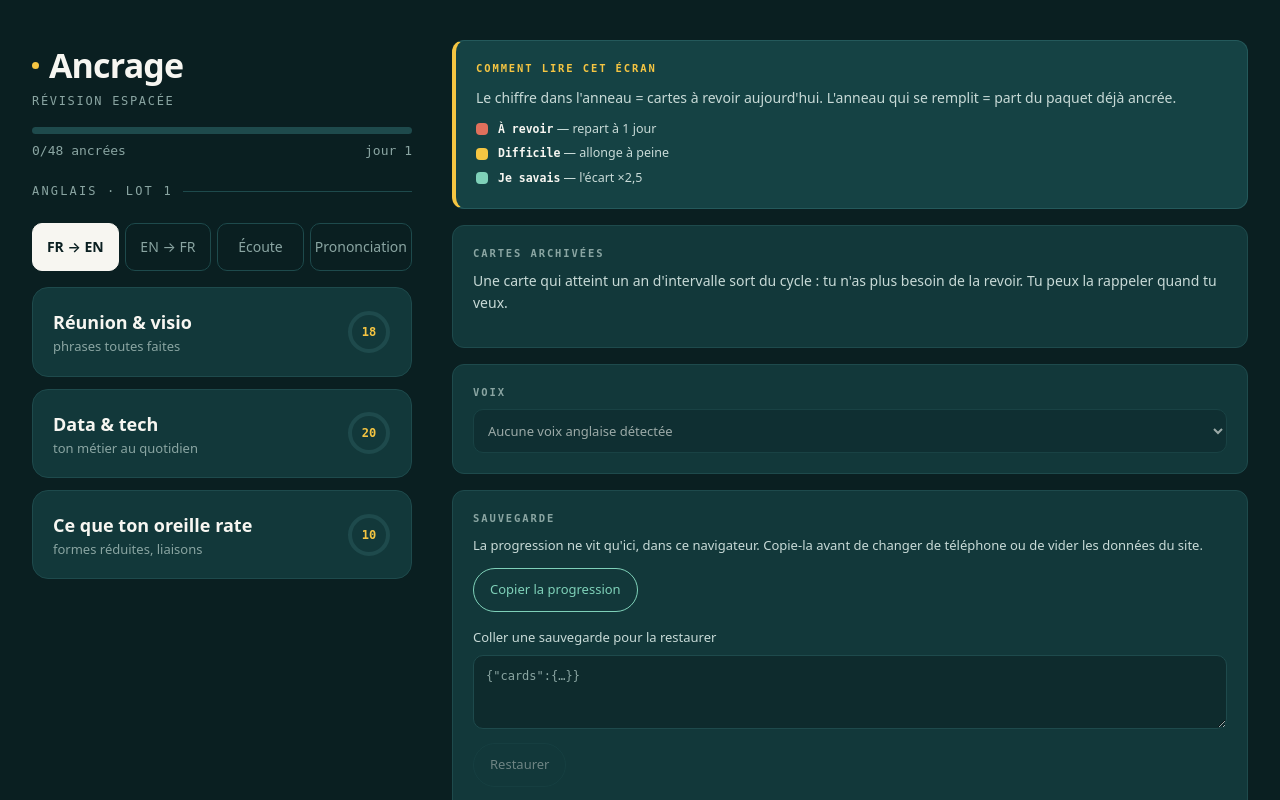
Test case: raccourcis clavier › 1, 2 et 3 notent la carte
The image size is (1280, 800).
Step 1. Click the button "Réunion & visio phrases toutes faites 18" → (122, 322), box [32,287,412,377]
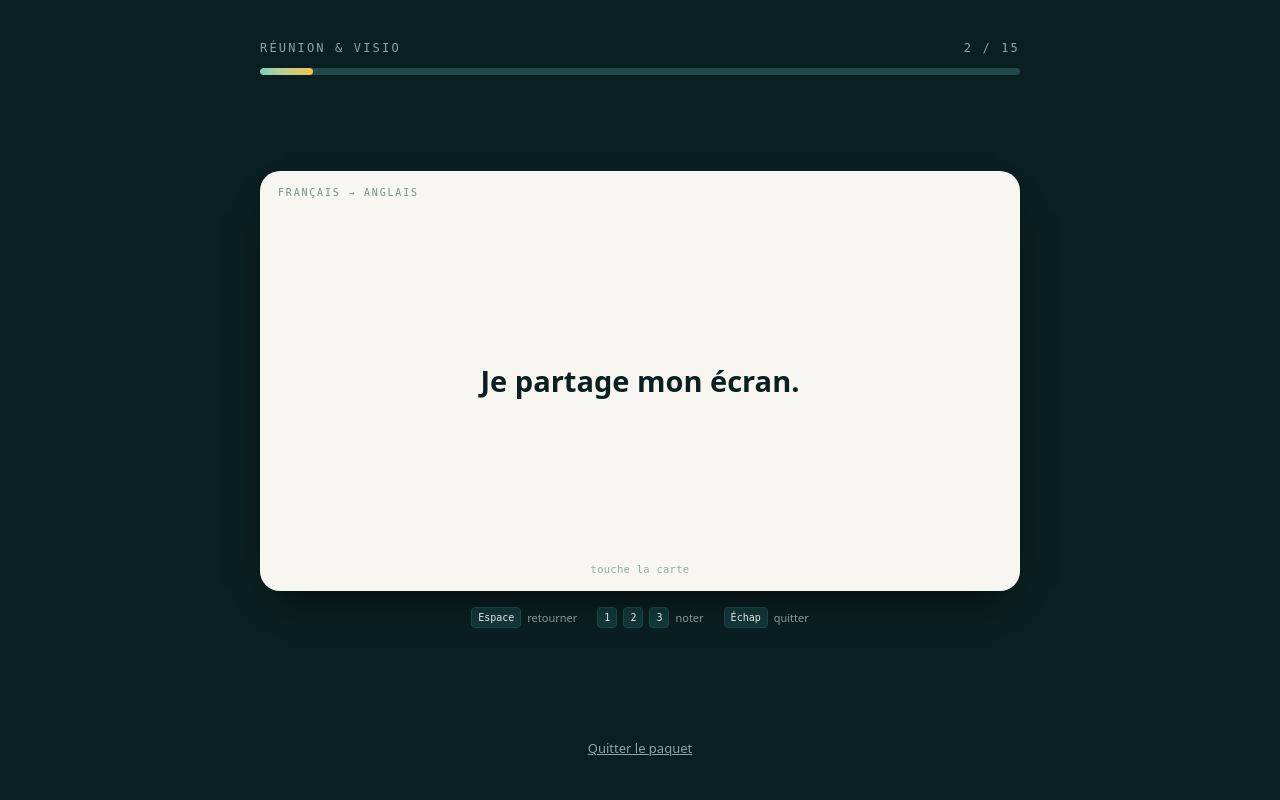
Now the text "2 / 15" is shown, box [964,40,1020,56]
